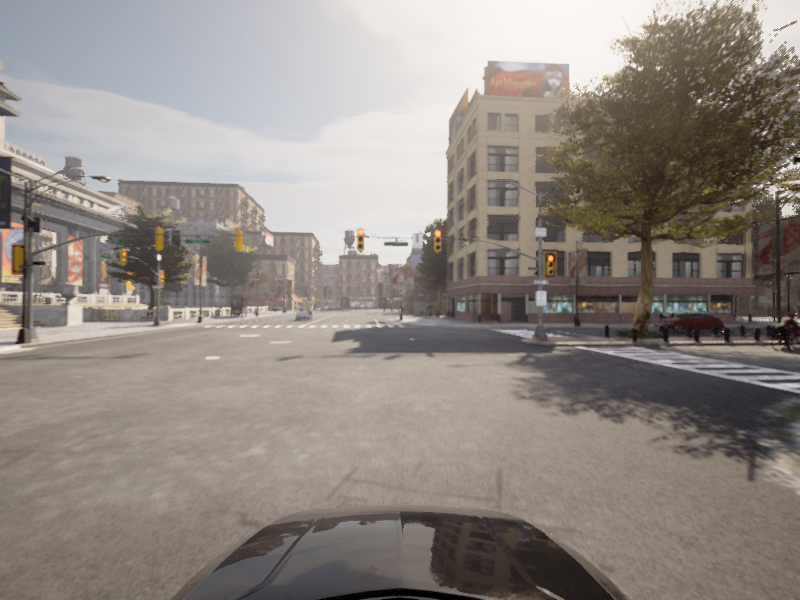vehicle: (649, 312, 728, 333), (764, 313, 799, 351)
